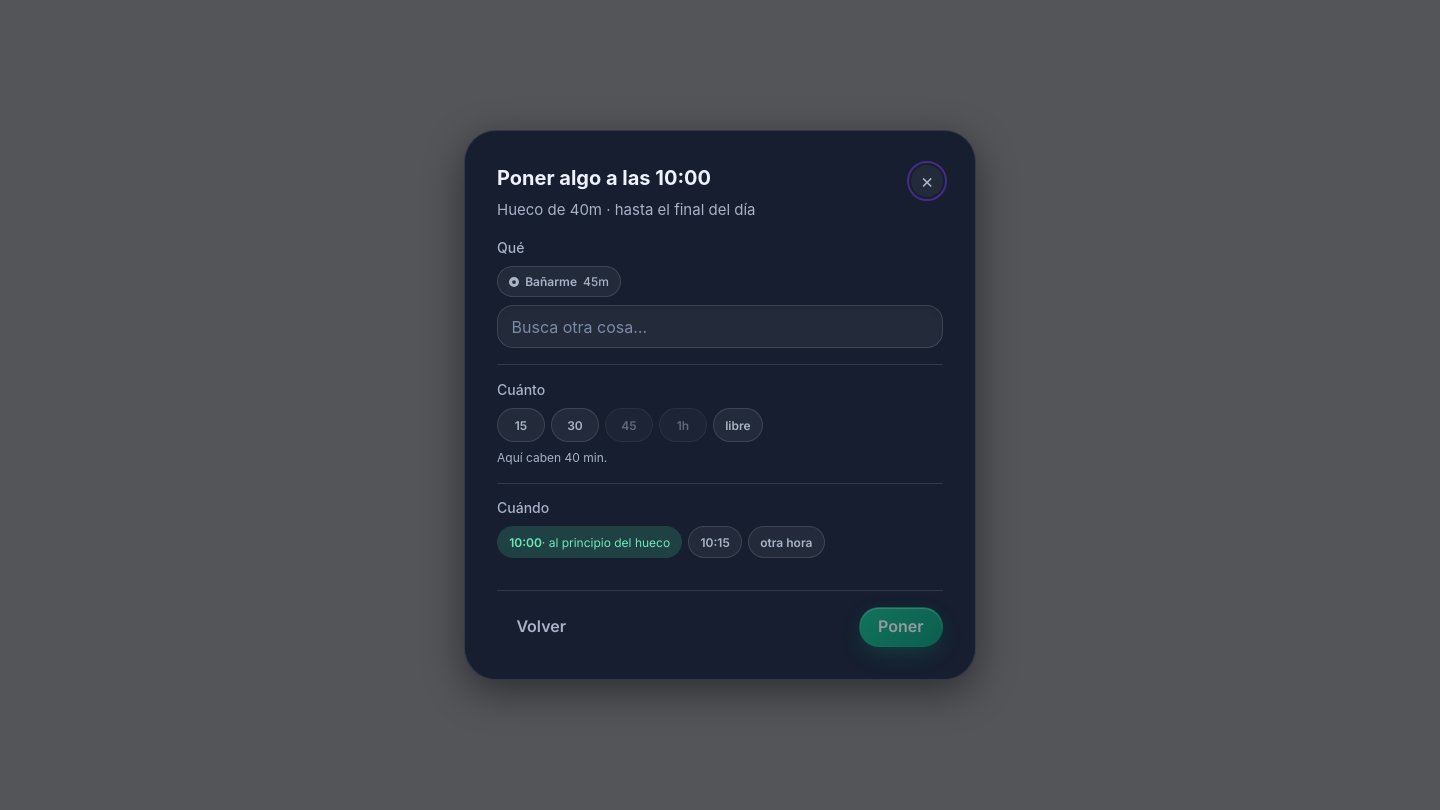
VidaPlaceInGapSheet › criterio 26 — «libre» no admite más minutos de los que caben y lo dice
Click the button "Bañarme 45m".
click(559, 282)  # box x1=497 y1=266 x2=621 y2=297
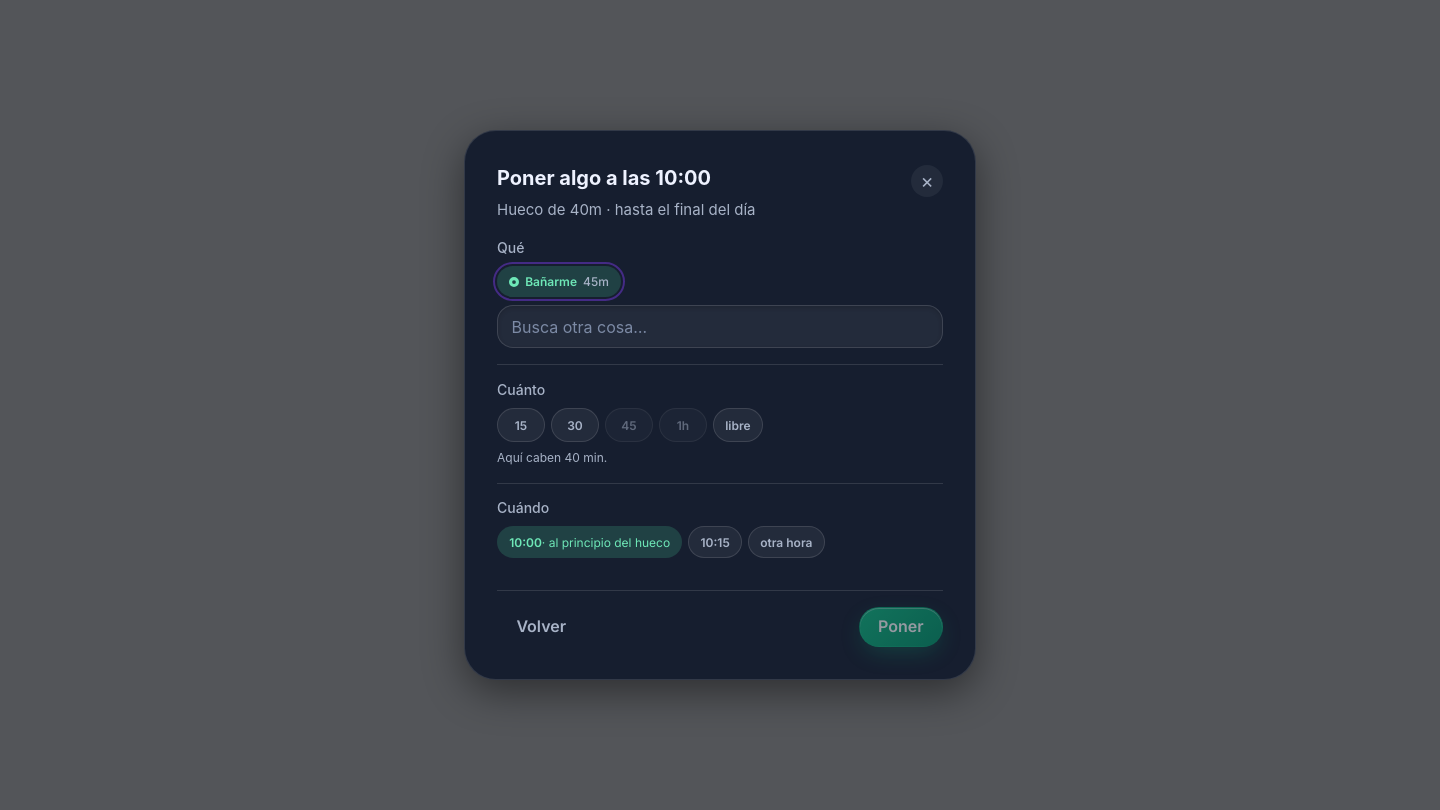
Click the button "libre".
click(738, 425)  # box x1=713 y1=408 x2=763 y2=442
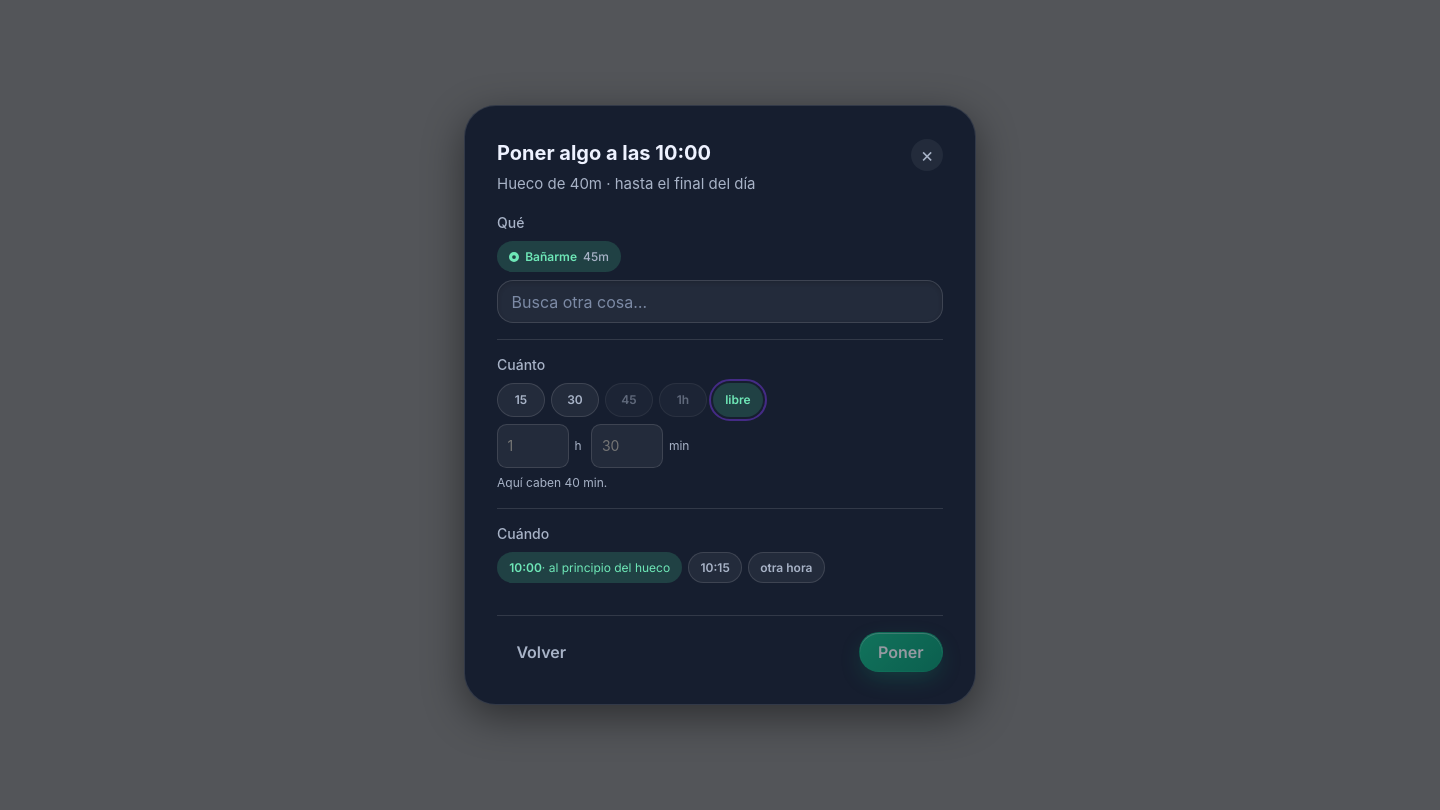
Expected: the text "Aquí caben 40 min." is shown, x1=497 y1=475 x2=607 y2=490
Expected: the field named "horas" is shown, x1=497 y1=424 x2=569 y2=468
Type "90" into the field named "minutos".
click(627, 446); type("90")  # box x1=591 y1=424 x2=663 y2=468
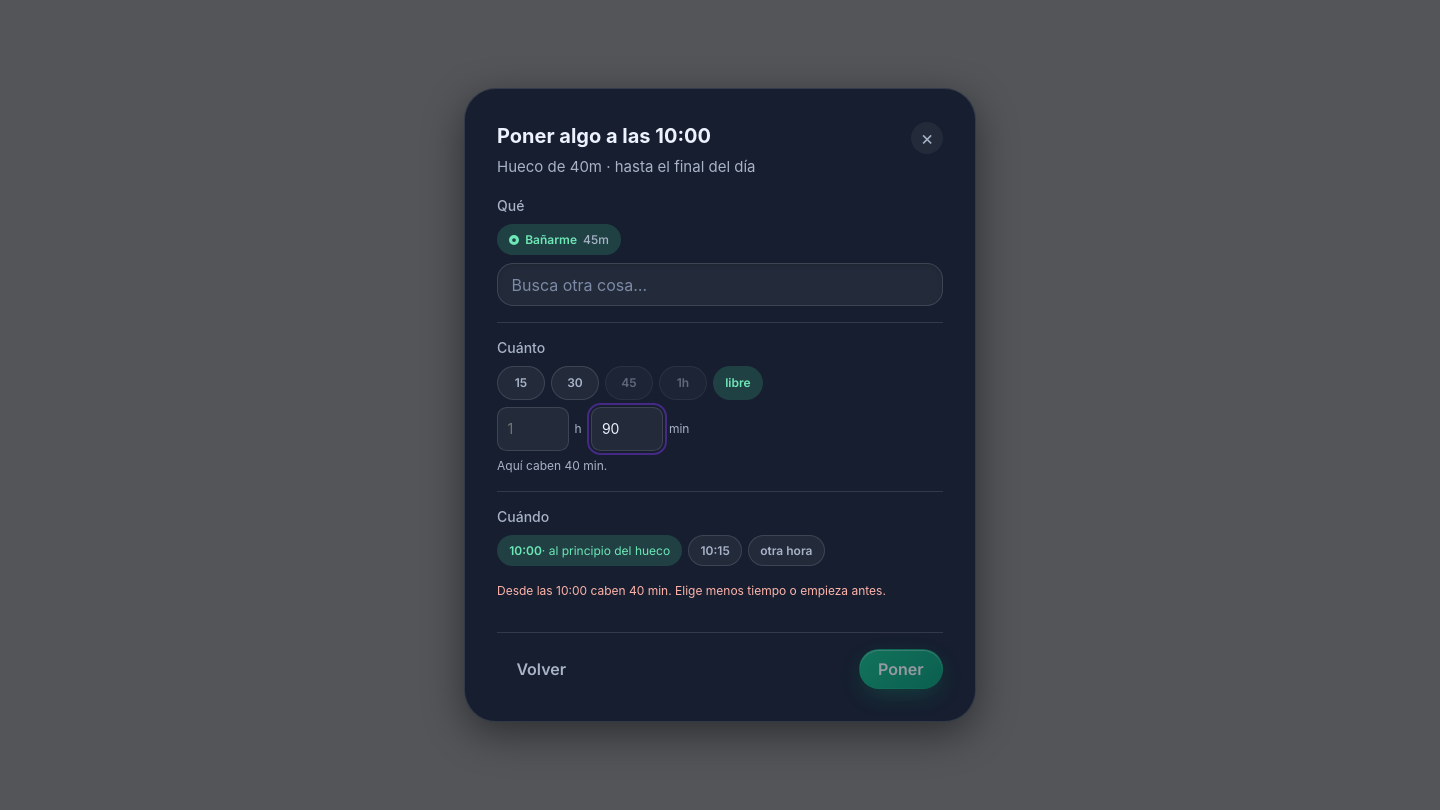
Expected: the button "Poner" is disabled, x1=859 y1=649 x2=943 y2=689
Expected: the message shows "caben 40 min", x1=497 y1=583 x2=886 y2=598
